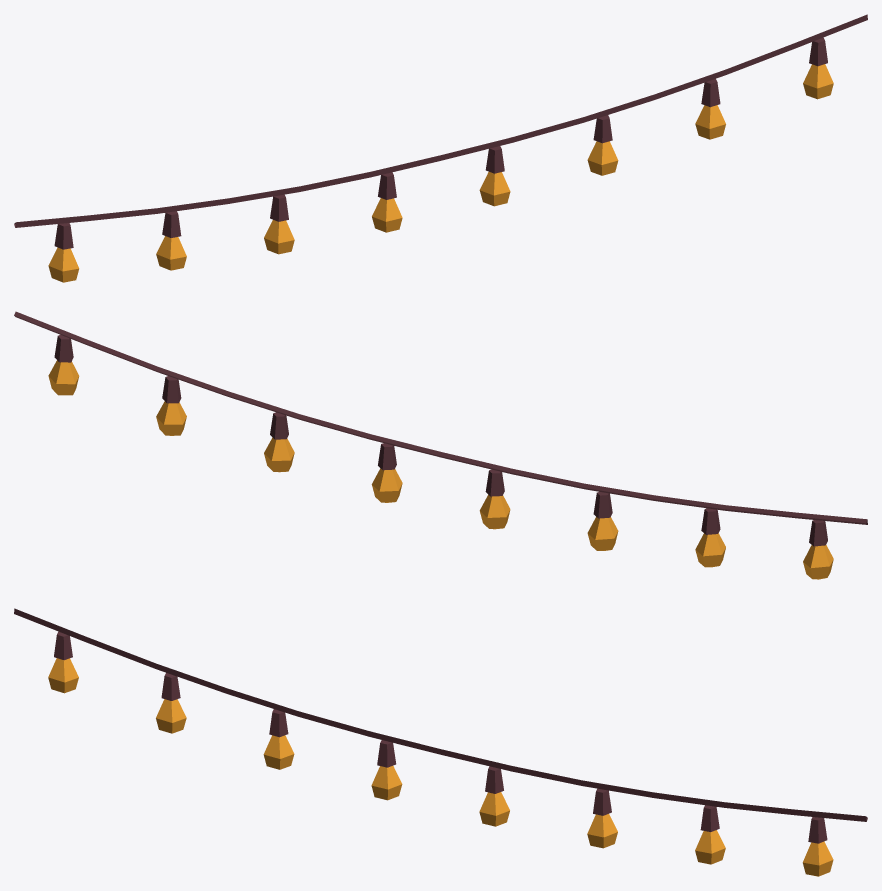
Rendered from lights-string.fbx.
3 views of the same model, one above another, from view 1: azimuth 30°, elevation 25°; view 2: azimuth 150°, elevation 25°; view 3: azimuth 330°, elevation 25° (orthographic).
Parts seen in each view (by area): view 1: lights-string; view 2: lights-string; view 3: lights-string.
Part boxes in pixels (x1,y1,x2,y2): lights-string: (14,14,867,282); lights-string: (14,311,867,579); lights-string: (14,608,867,876).
Size of the model in its own units: 2 by 0.2259 by 0.06.
